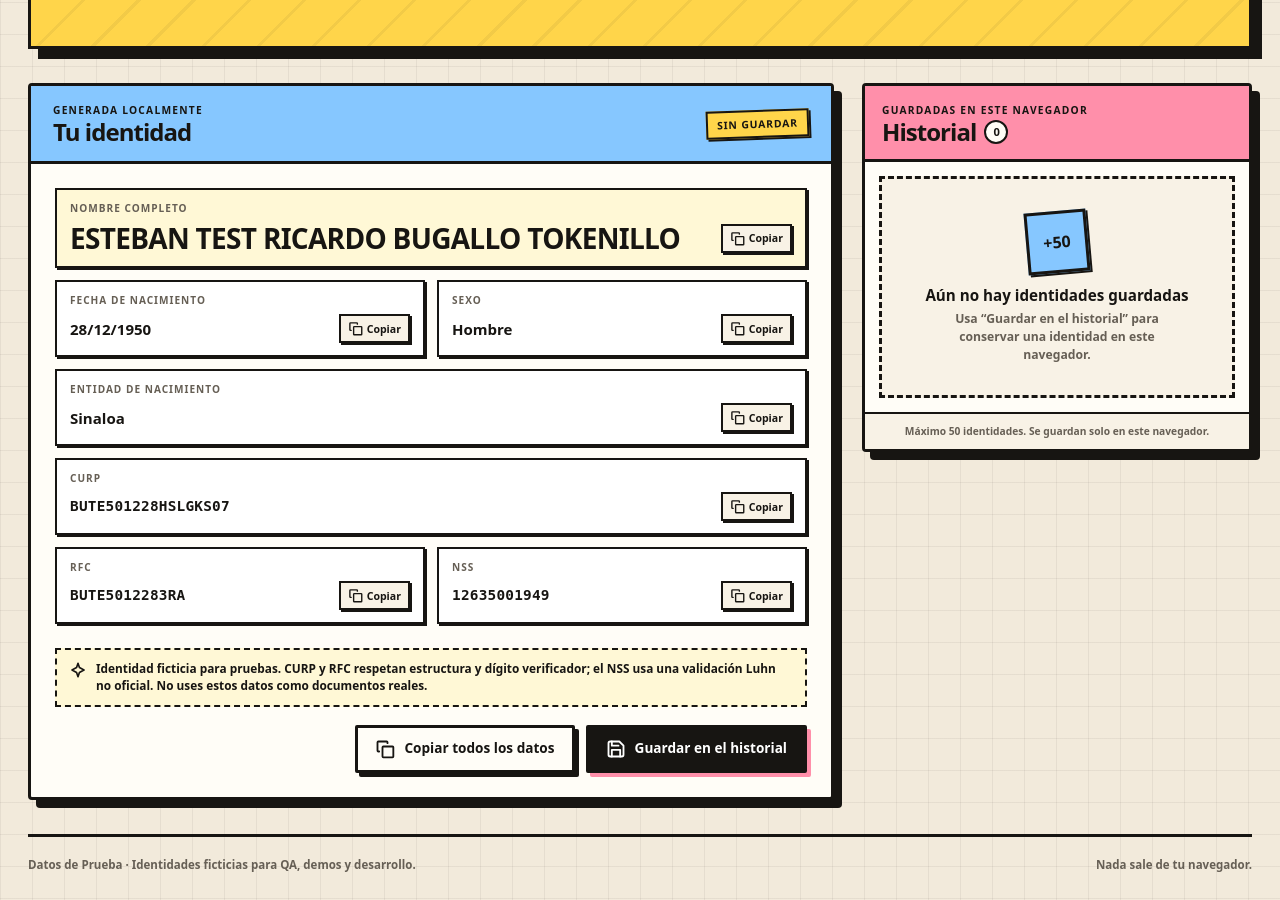
it: App › requires confirmation before clearing the entire history
(page scrolled)
Click the button "Guardar en el historial" at point(696, 749), box [586,725,807,773]
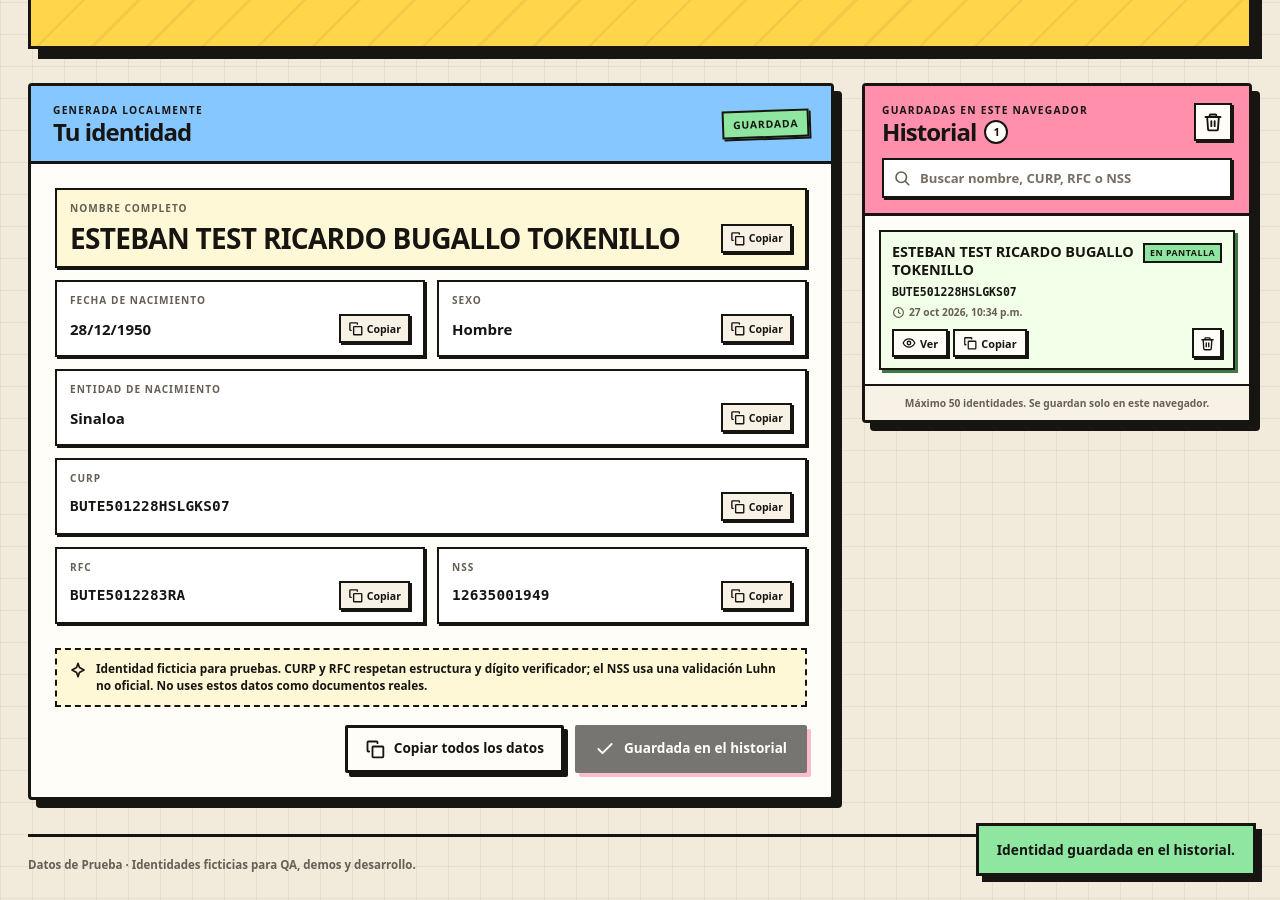
Click the button named "Borrar todo el historial" at point(1213, 122), box [1194,103,1232,141]
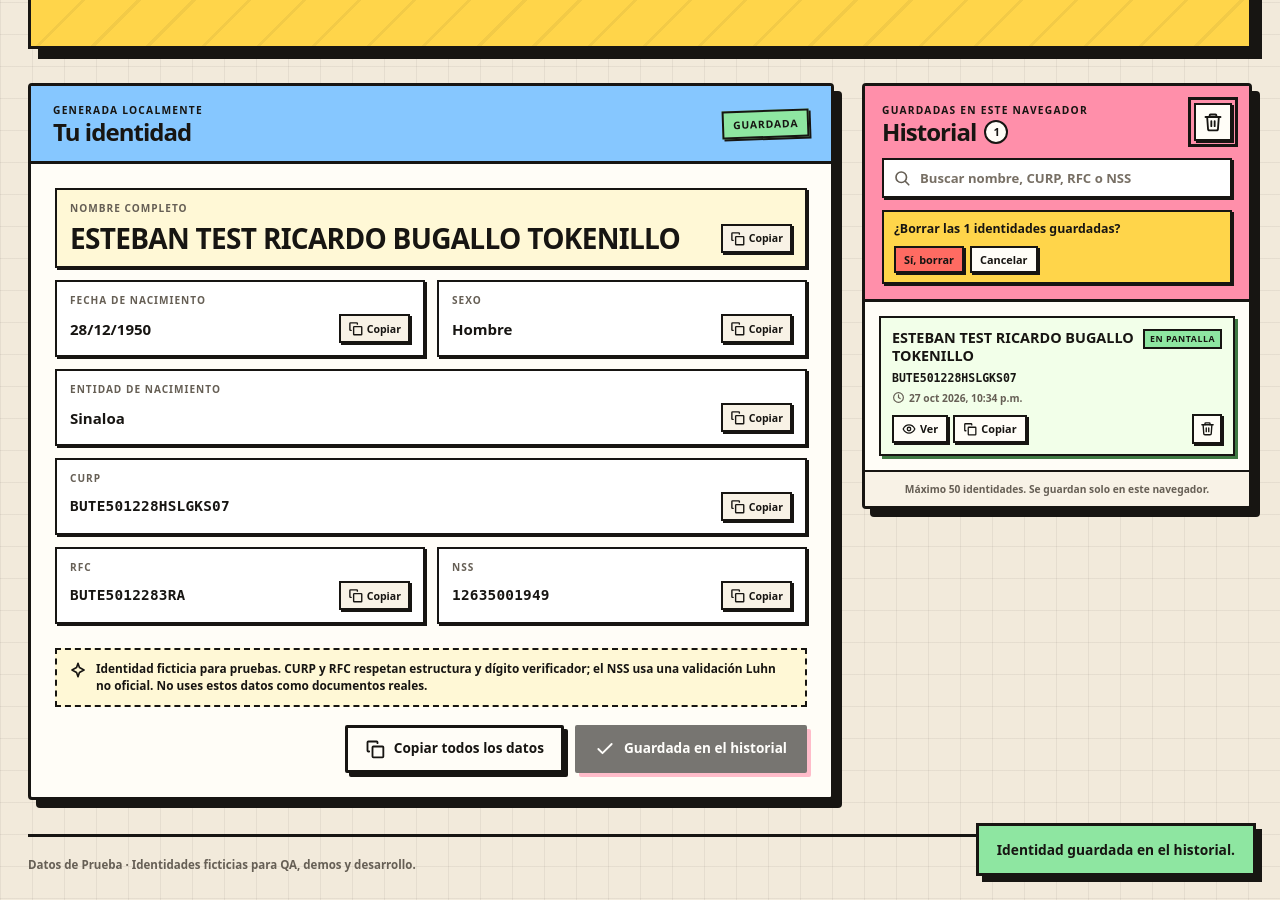
Expected: the element named "Confirmar borrado del historial" is shown, [882,210,1232,284]
Click the button "Sí, borrar" at point(929, 259), box [894,246,964,273]
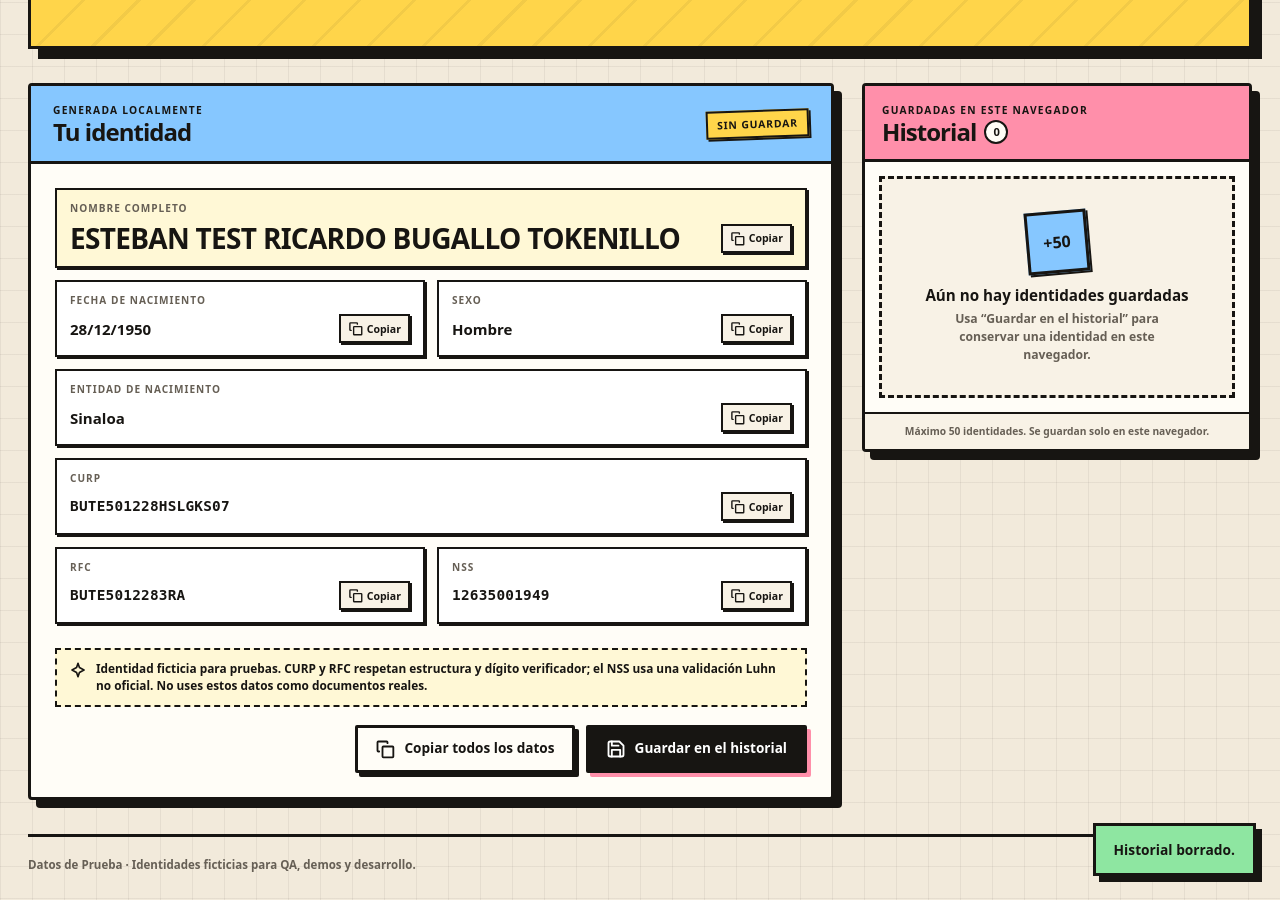
Expected: the heading "Aún no hay identidades guardadas" is shown, [925,286,1189,304]
Expected: the text "Sin guardar" is shown, [706,108,810,139]
